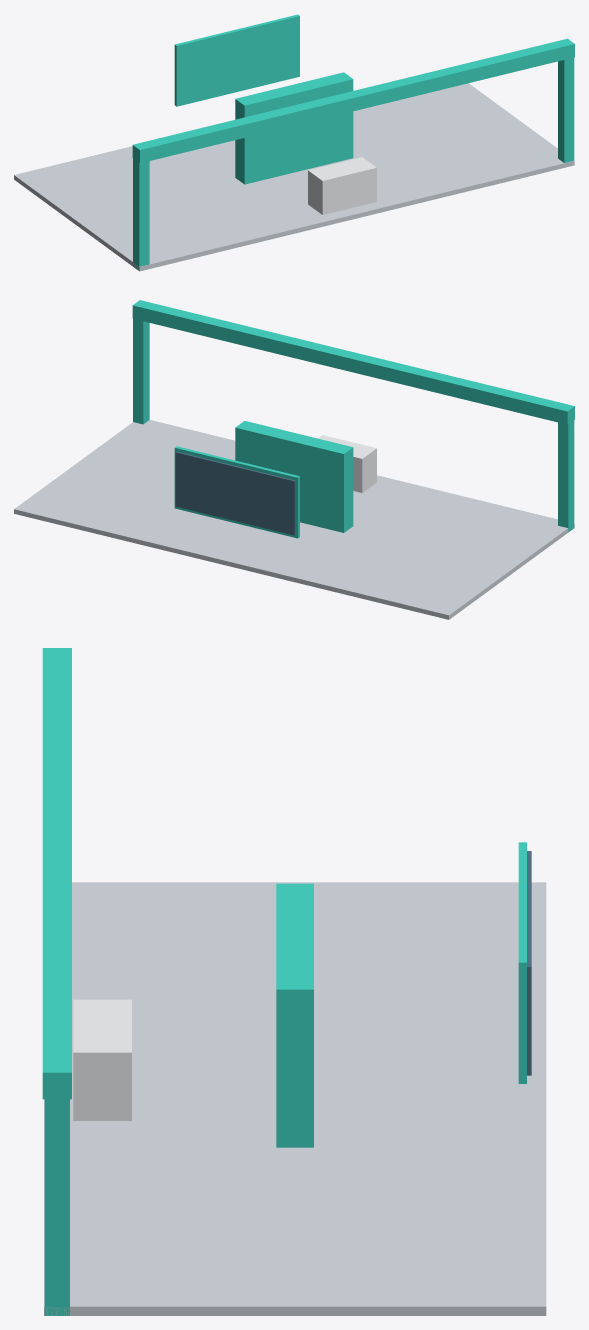
3 views of the same model, one above another, from view 1: azimuth 30°, elevation 25°; view 2: azimuth 150°, elevation 25°; view 3: azimuth 270°, elevation 25° (orthographic). The views are drawn at different scales.
Parts seen in each view (by area): view 1: Exhibition Booth Concept; view 2: Exhibition Booth Concept; view 3: Exhibition Booth Concept.
Part boxes in pixels (box(x1,y1,x2,y2)): Exhibition Booth Concept: box(14, 14, 574, 271); Exhibition Booth Concept: box(14, 300, 574, 619); Exhibition Booth Concept: box(42, 648, 546, 1315).
Bounding box in the file's own units: 12 × 3.2 × 6.02.
